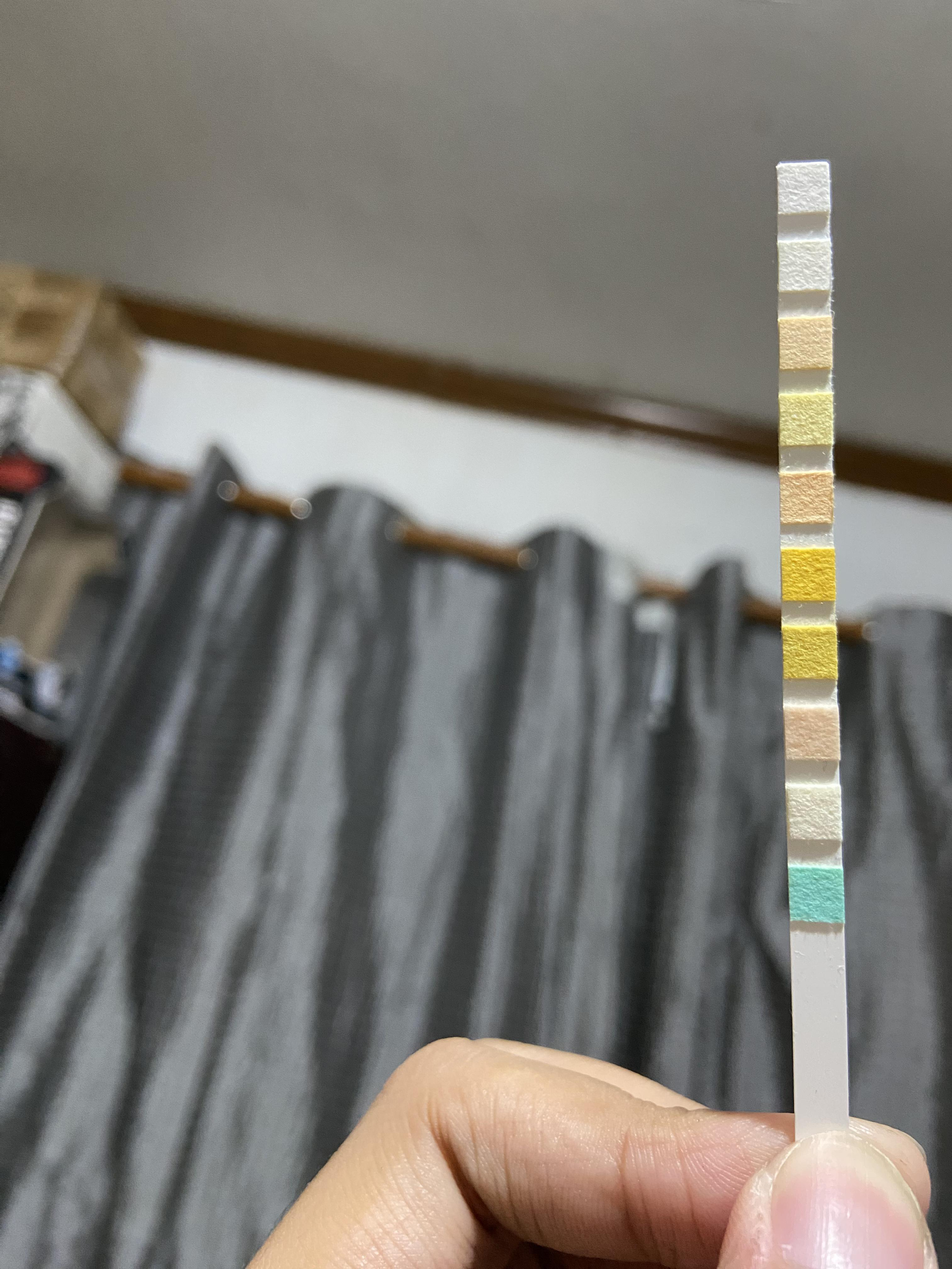Bilirubin: (788, 787, 842, 840)
Blood: (782, 548, 835, 600)
Glucose: (789, 868, 844, 922)
Ketone: (785, 707, 840, 760)
Leukocytes: (778, 164, 829, 213)
Nitrite: (778, 241, 830, 290)
Protein: (779, 395, 833, 445)
SpGravity: (783, 627, 837, 678)
Urobilinogen: (780, 319, 832, 368)
pH: (780, 473, 833, 523)
strip: (776, 161, 849, 1104)
